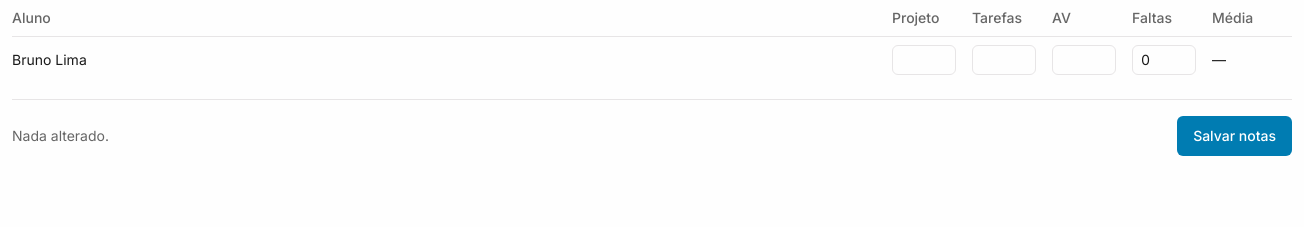
Test case: GradeDeNotas › mostra o erro devolvido pela ação
In the field named "Projeto de Bruno Lima": point(924, 60) [892,45,956,75], type "7"
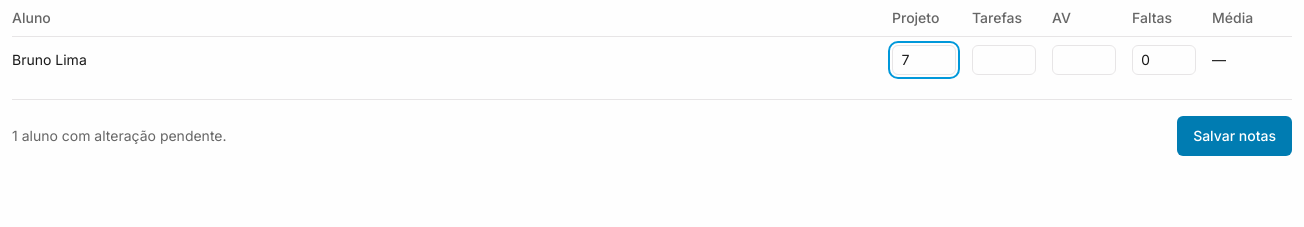
Click the button "Salvar notas": point(1235, 136) [1177,116,1292,156]
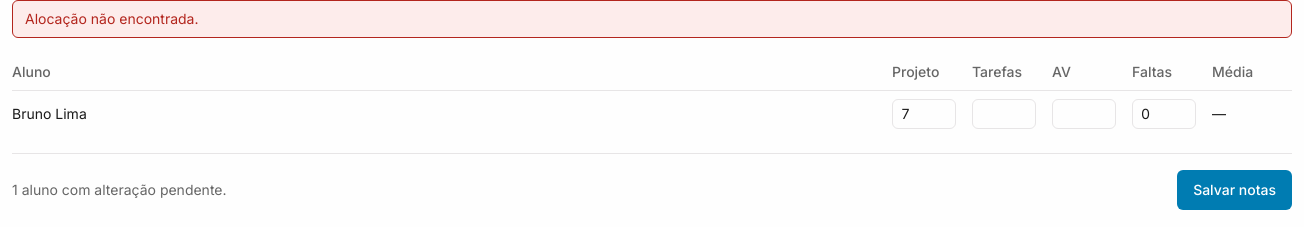
Expected: the message reads "Alocação não encontrada.", [25,10,198,27]
